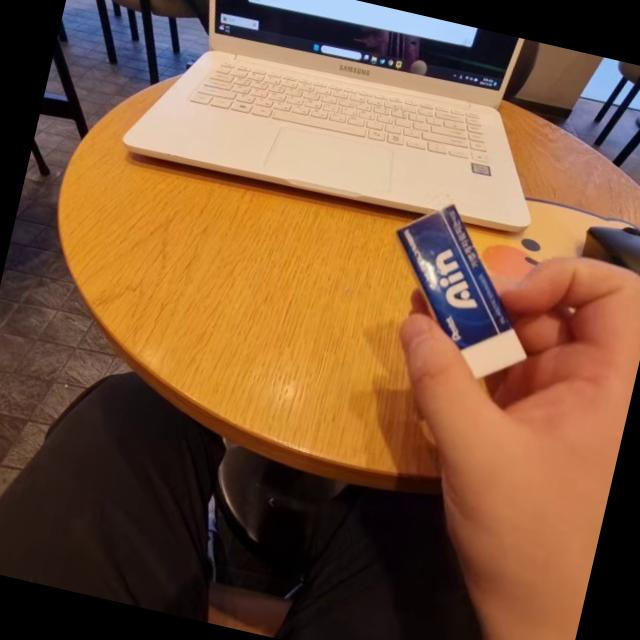eraser: (370, 198, 554, 389)
grab_eraser: (340, 186, 640, 541)
mouse: (569, 209, 640, 312)
